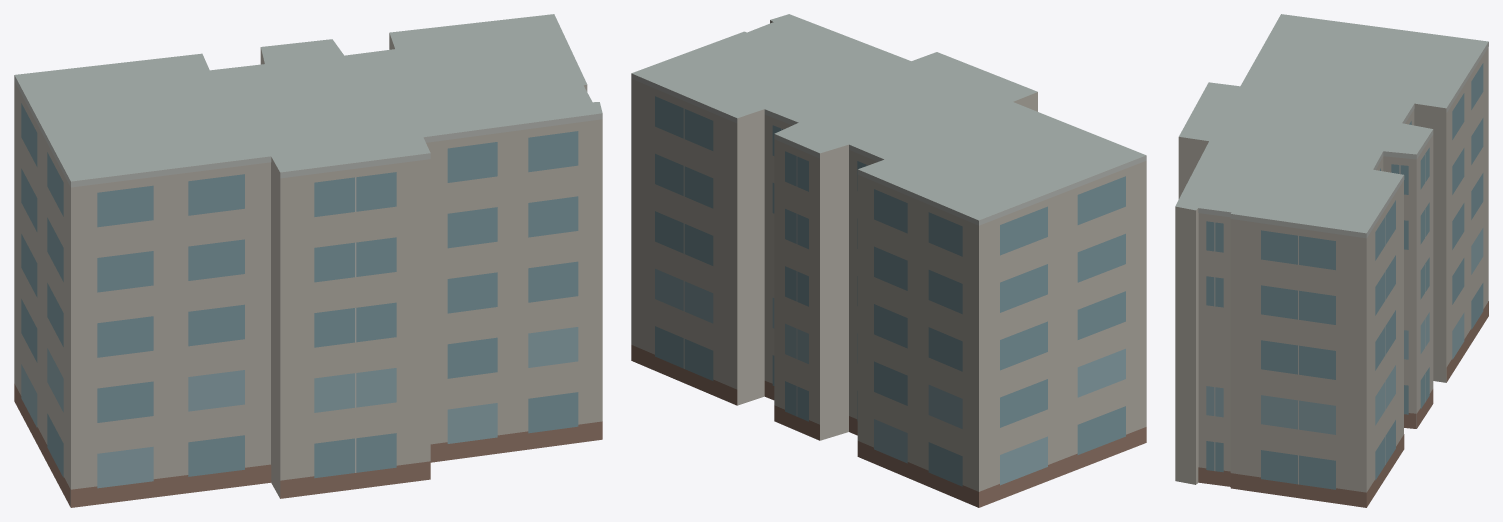
Rendered from survey-upis-32632056.glb.
The picture shows the model from 3 angles, left to right: view 1: azimuth 30°, elevation 25°; view 2: azimuth 150°, elevation 25°; view 3: azimuth 270°, elevation 25°; orthographic projection. The views are drawn at different scales.
Parts seen in each view (by area): view 1: survey-upis-32632056.tmp; view 2: survey-upis-32632056.tmp; view 3: survey-upis-32632056.tmp.
Part boxes in pixels (box(x1,y1,x2,y2)): survey-upis-32632056.tmp: box(14, 14, 602, 507); survey-upis-32632056.tmp: box(631, 14, 1146, 507); survey-upis-32632056.tmp: box(1175, 14, 1488, 507).
Bounding box in the file's own units: 22.97 × 13.4 × 13.89.
